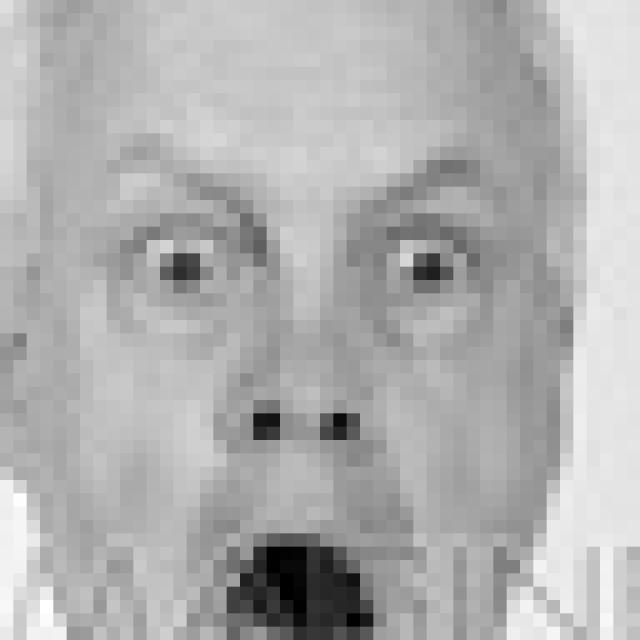surprise: (86, 124, 524, 640)
